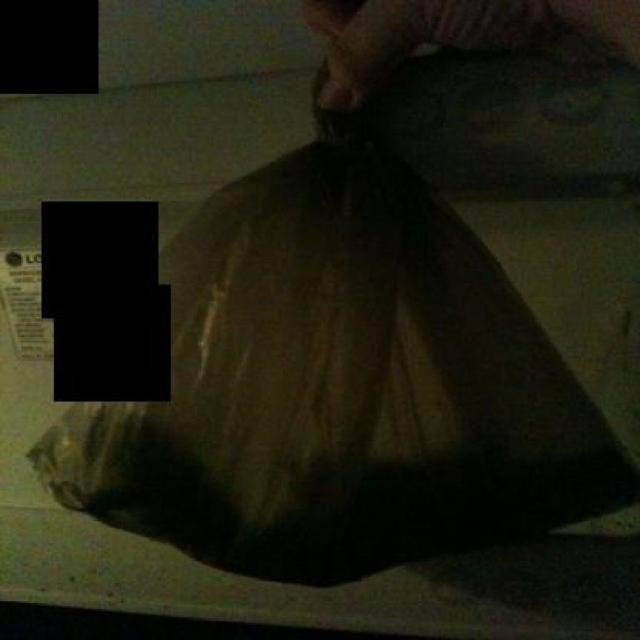plastic bag: (24, 51, 638, 589)
